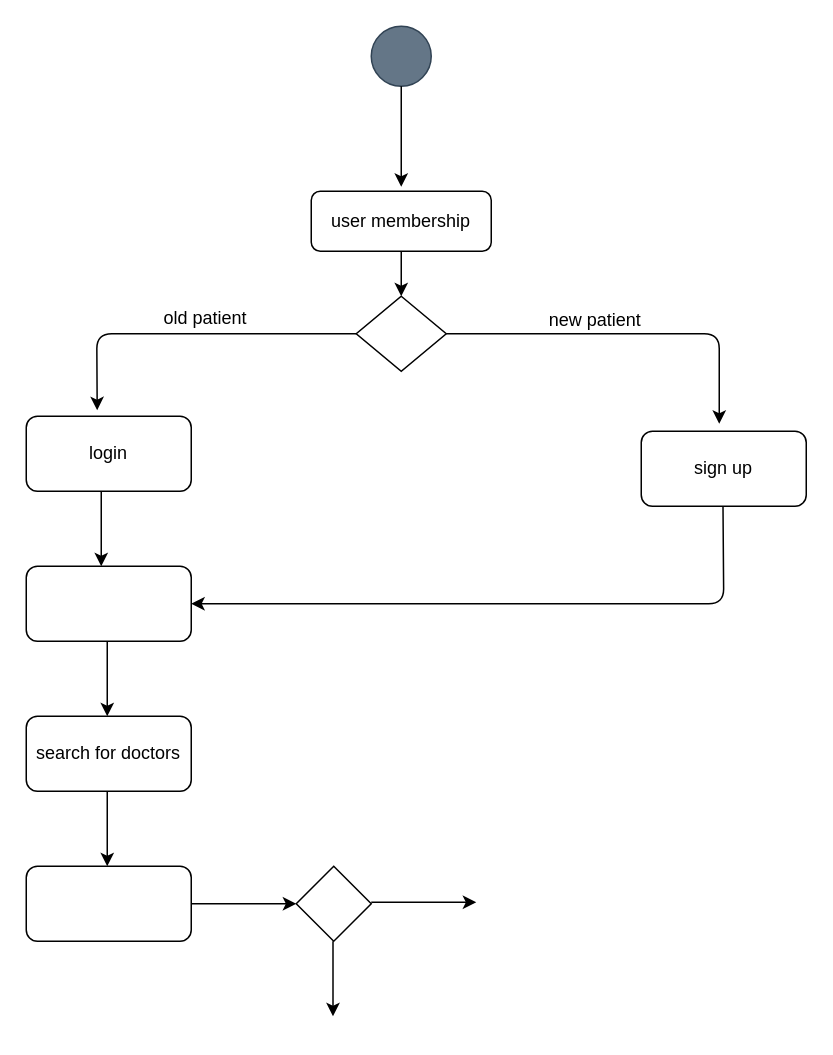
Some shapes in this 833 by 1055 pixel diagram are drawn without their labels. Here are the shapes that lost their labels. From the top down, the centre of each, then its label:
[108,603]: search for surgeries
[108,903]: online visit application
